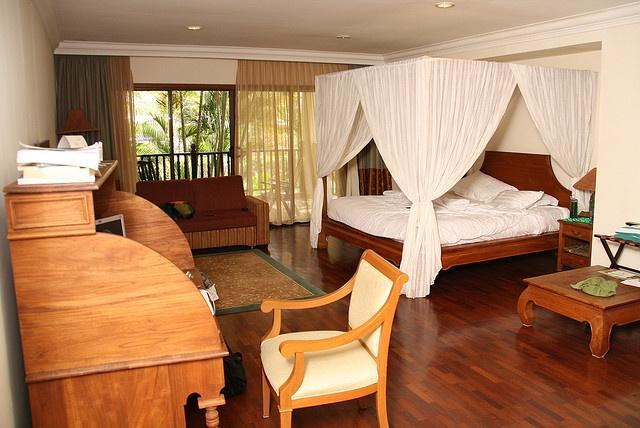Kursi: (258, 247, 409, 427)
Meja: (515, 263, 639, 358)
